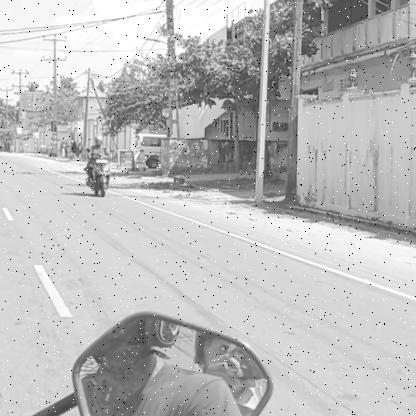motorcycle: (82, 152, 115, 199)
